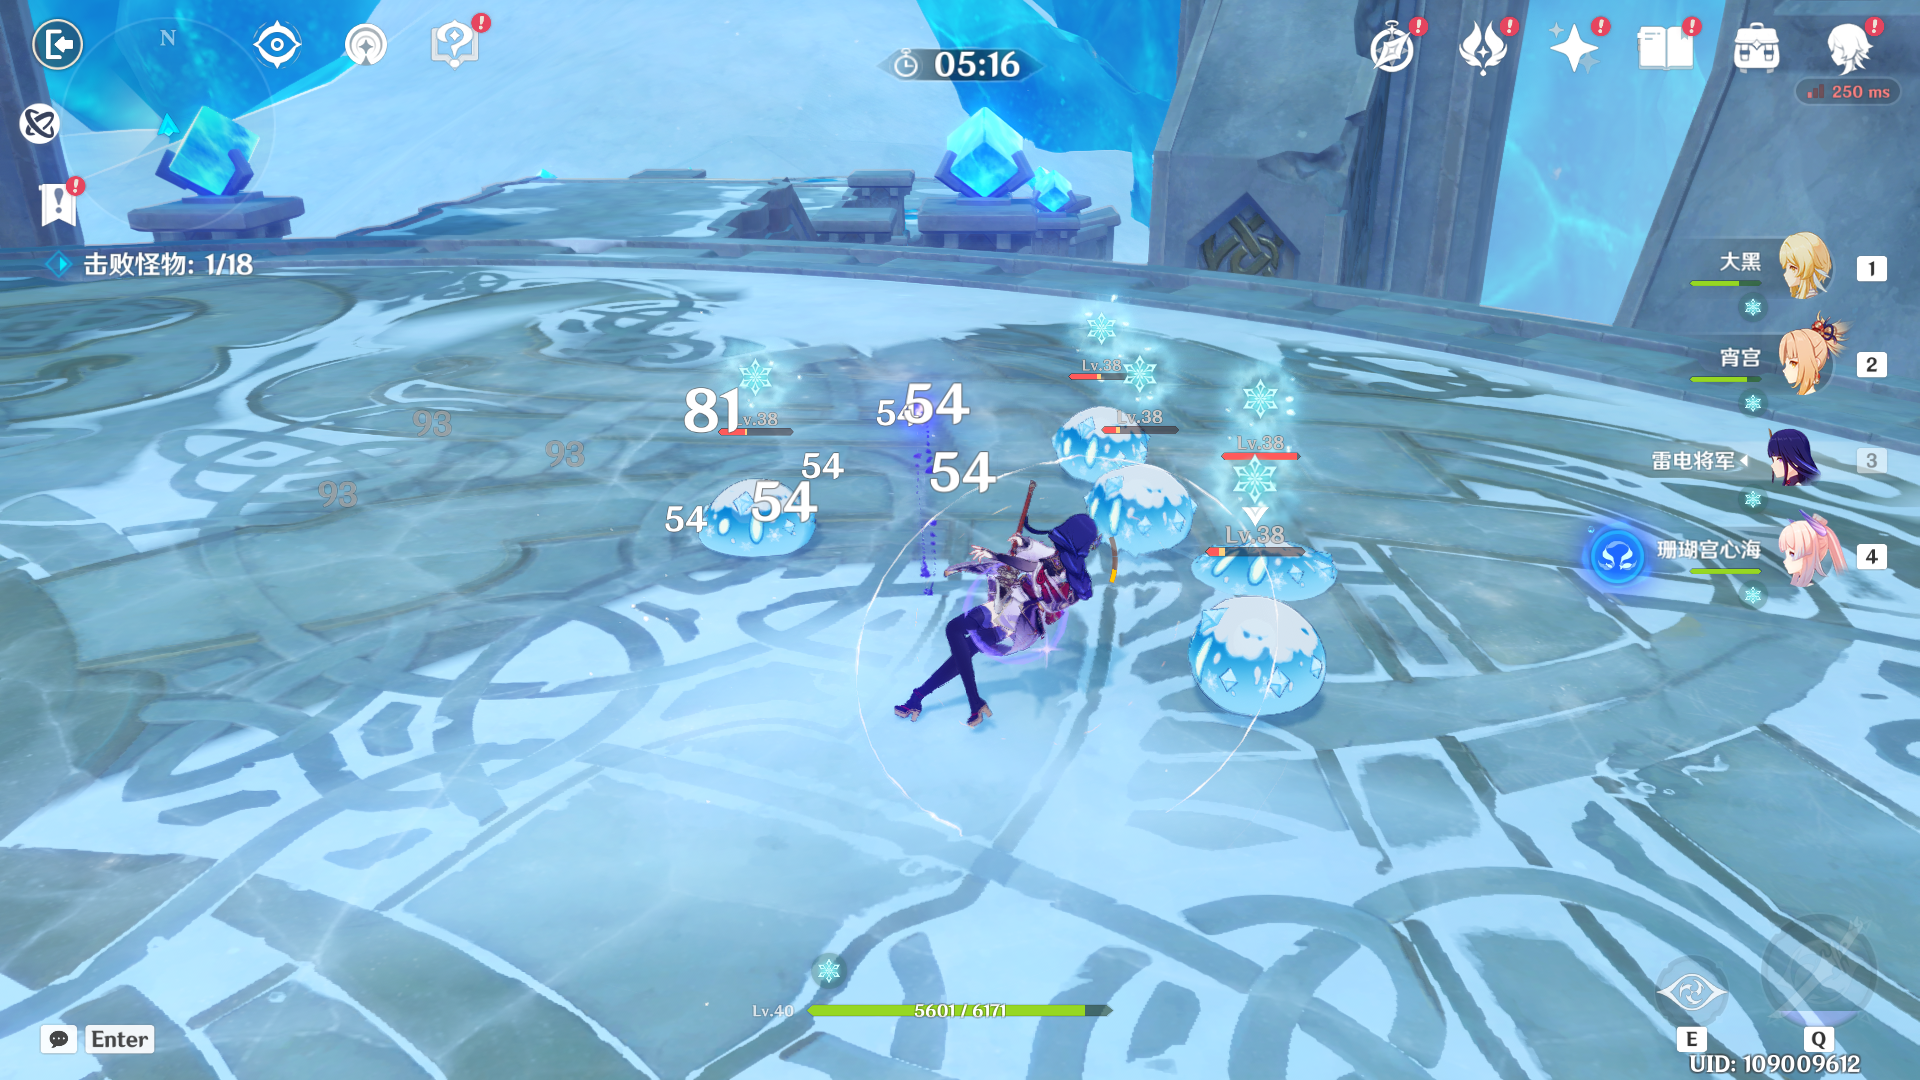character: (880, 483, 1125, 748)
slime: (1170, 568, 1344, 737), (1184, 510, 1345, 620), (1075, 456, 1201, 574), (684, 459, 822, 564), (1034, 394, 1158, 488)
